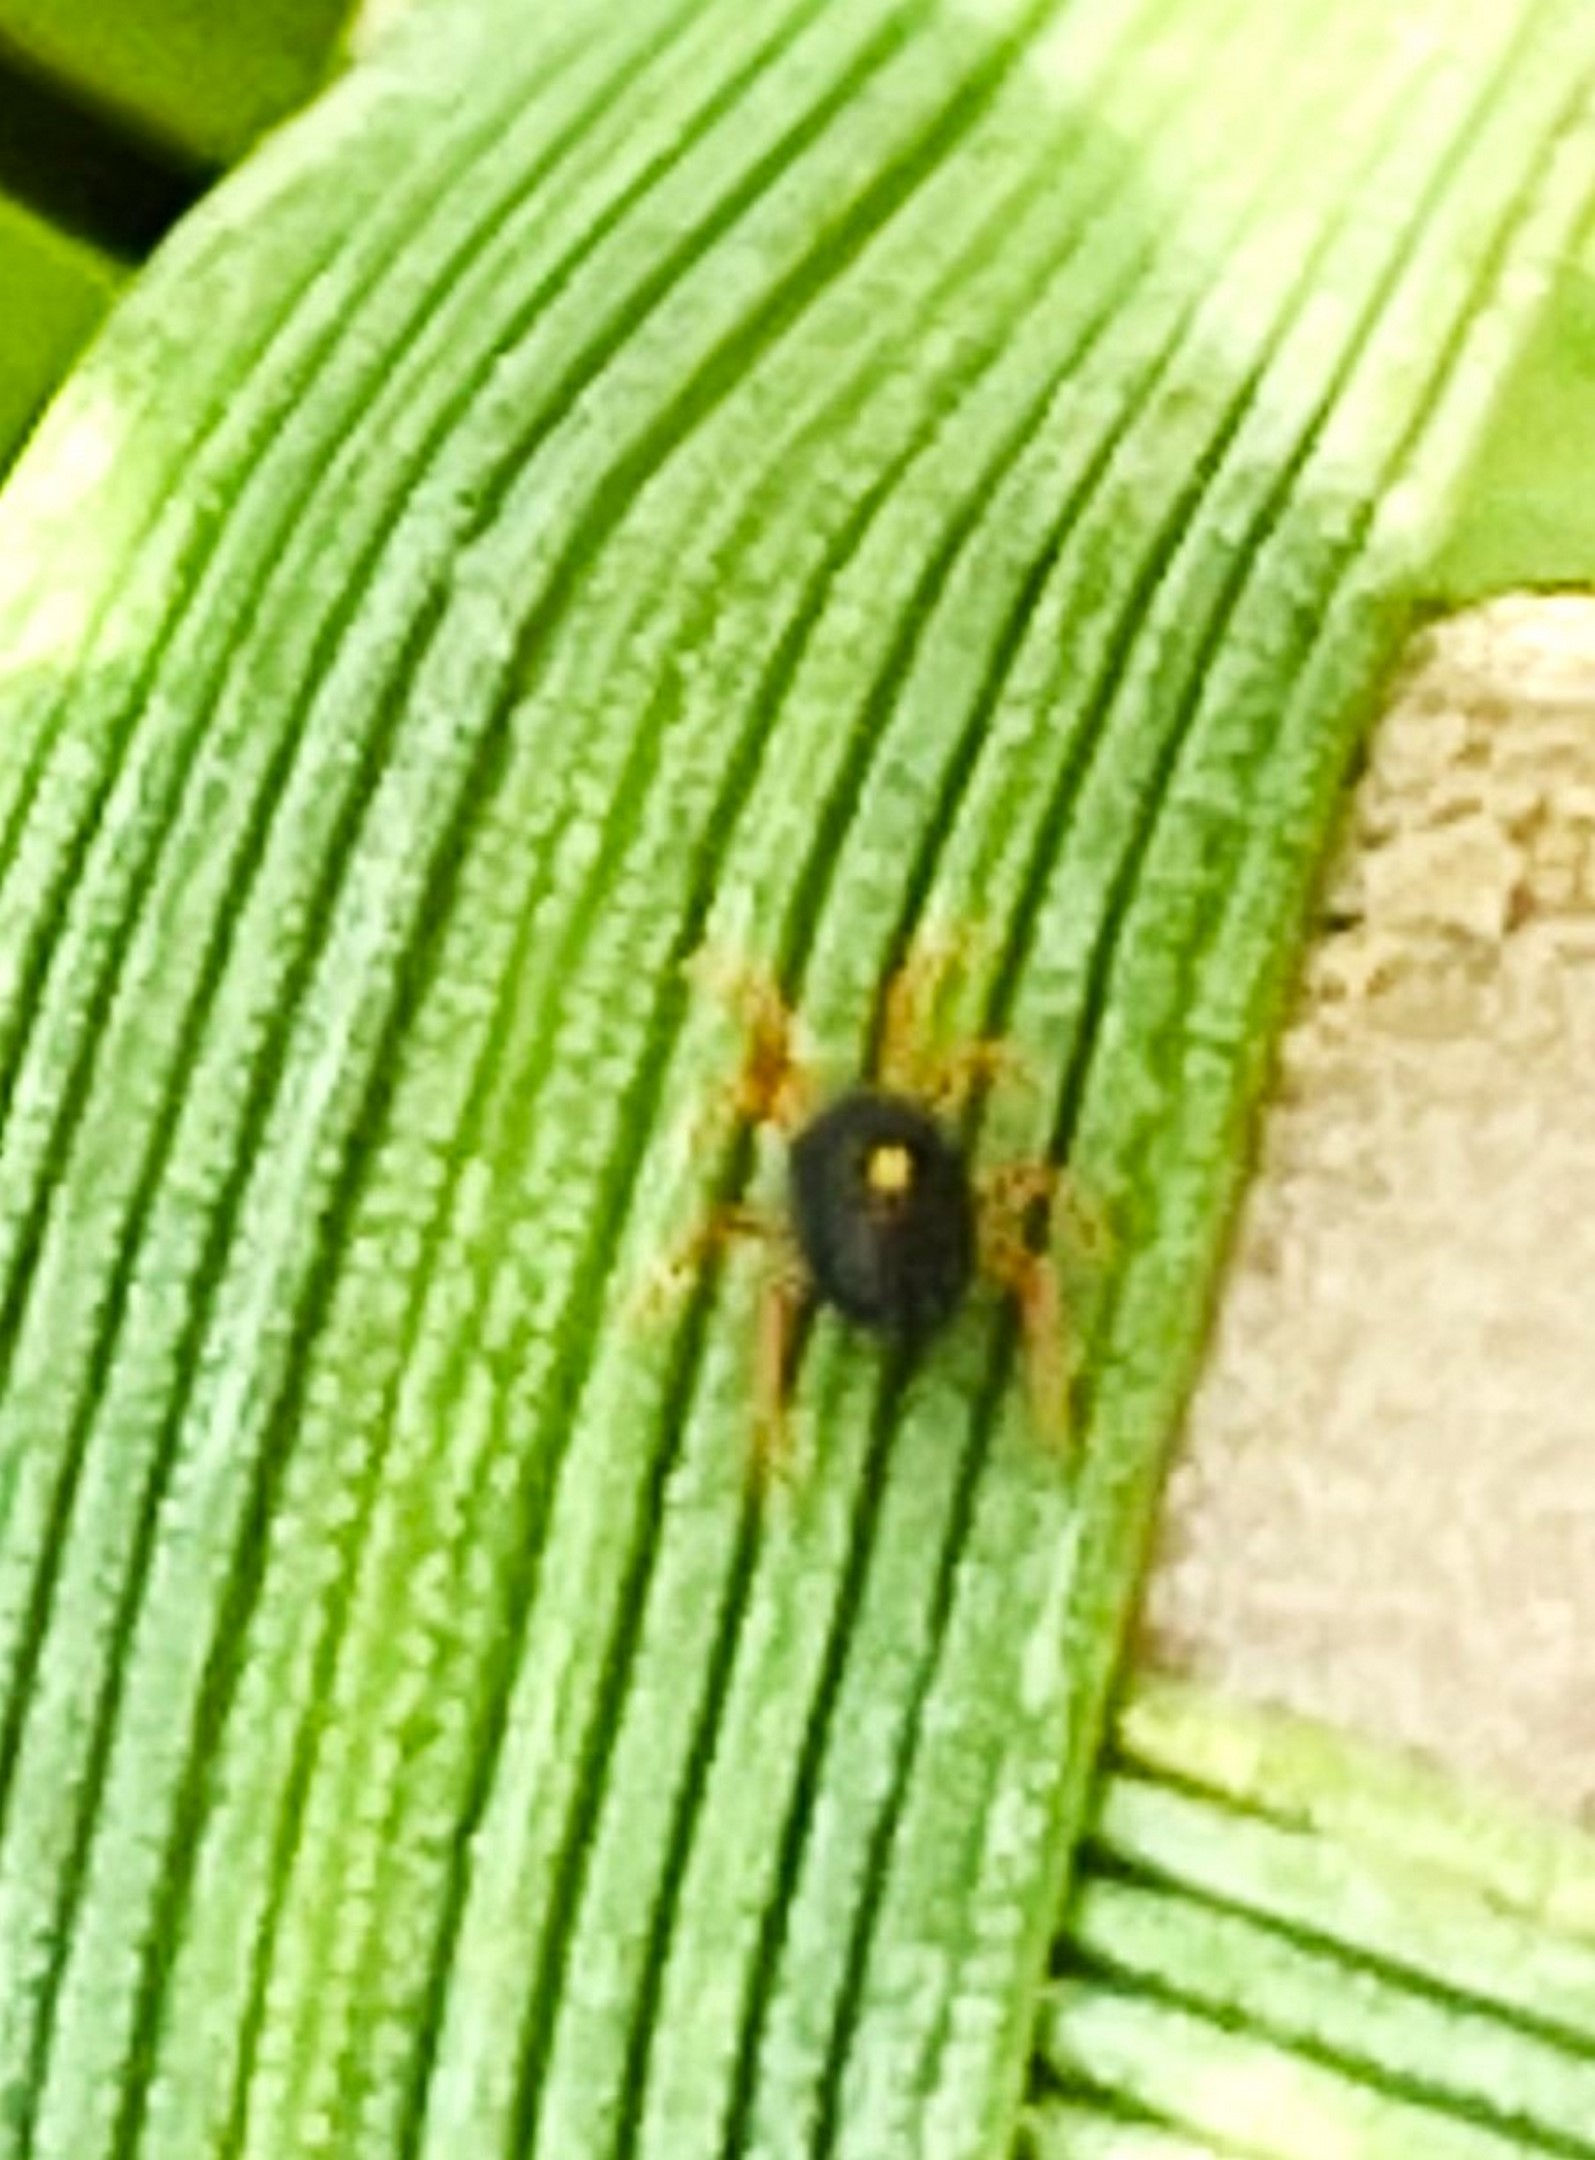Wheat Red Spider: (589, 877, 1135, 1514)
